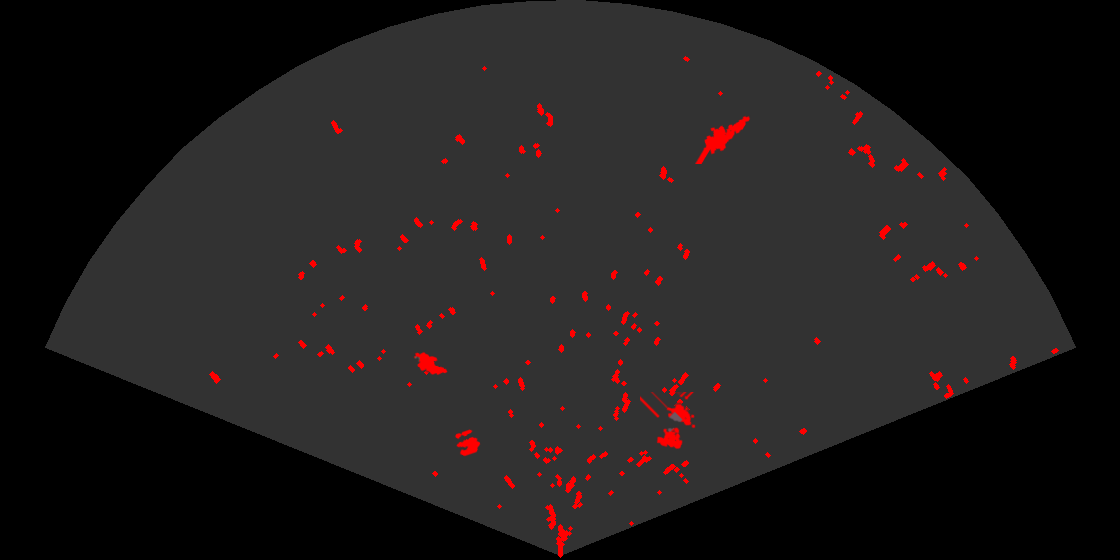AUV: (412, 350, 449, 377)
ball: (453, 428, 482, 458)
cage: (640, 392, 697, 451)
frogman: (695, 114, 752, 164)
